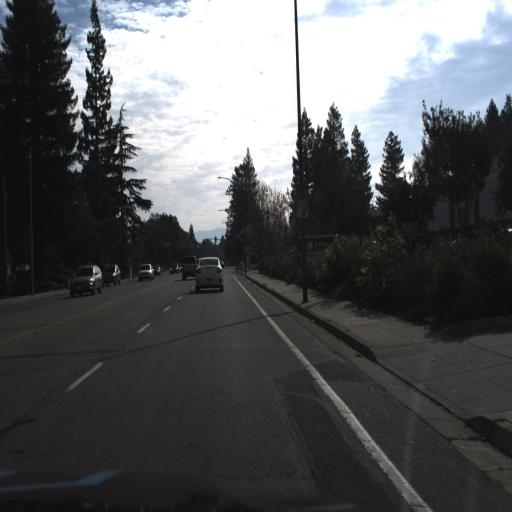car: (194, 253, 223, 289), (67, 263, 103, 291), (180, 254, 197, 282), (103, 262, 121, 285), (134, 263, 153, 277)
